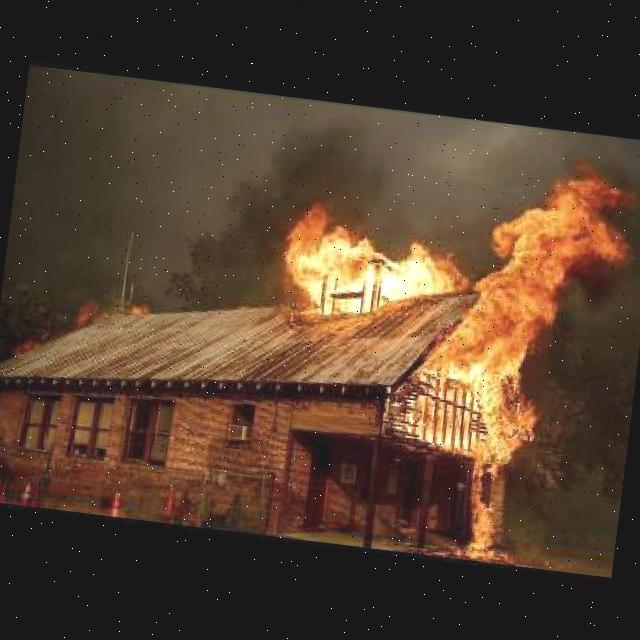Fire: (244, 117, 640, 569), (72, 294, 110, 330), (128, 297, 150, 315)
